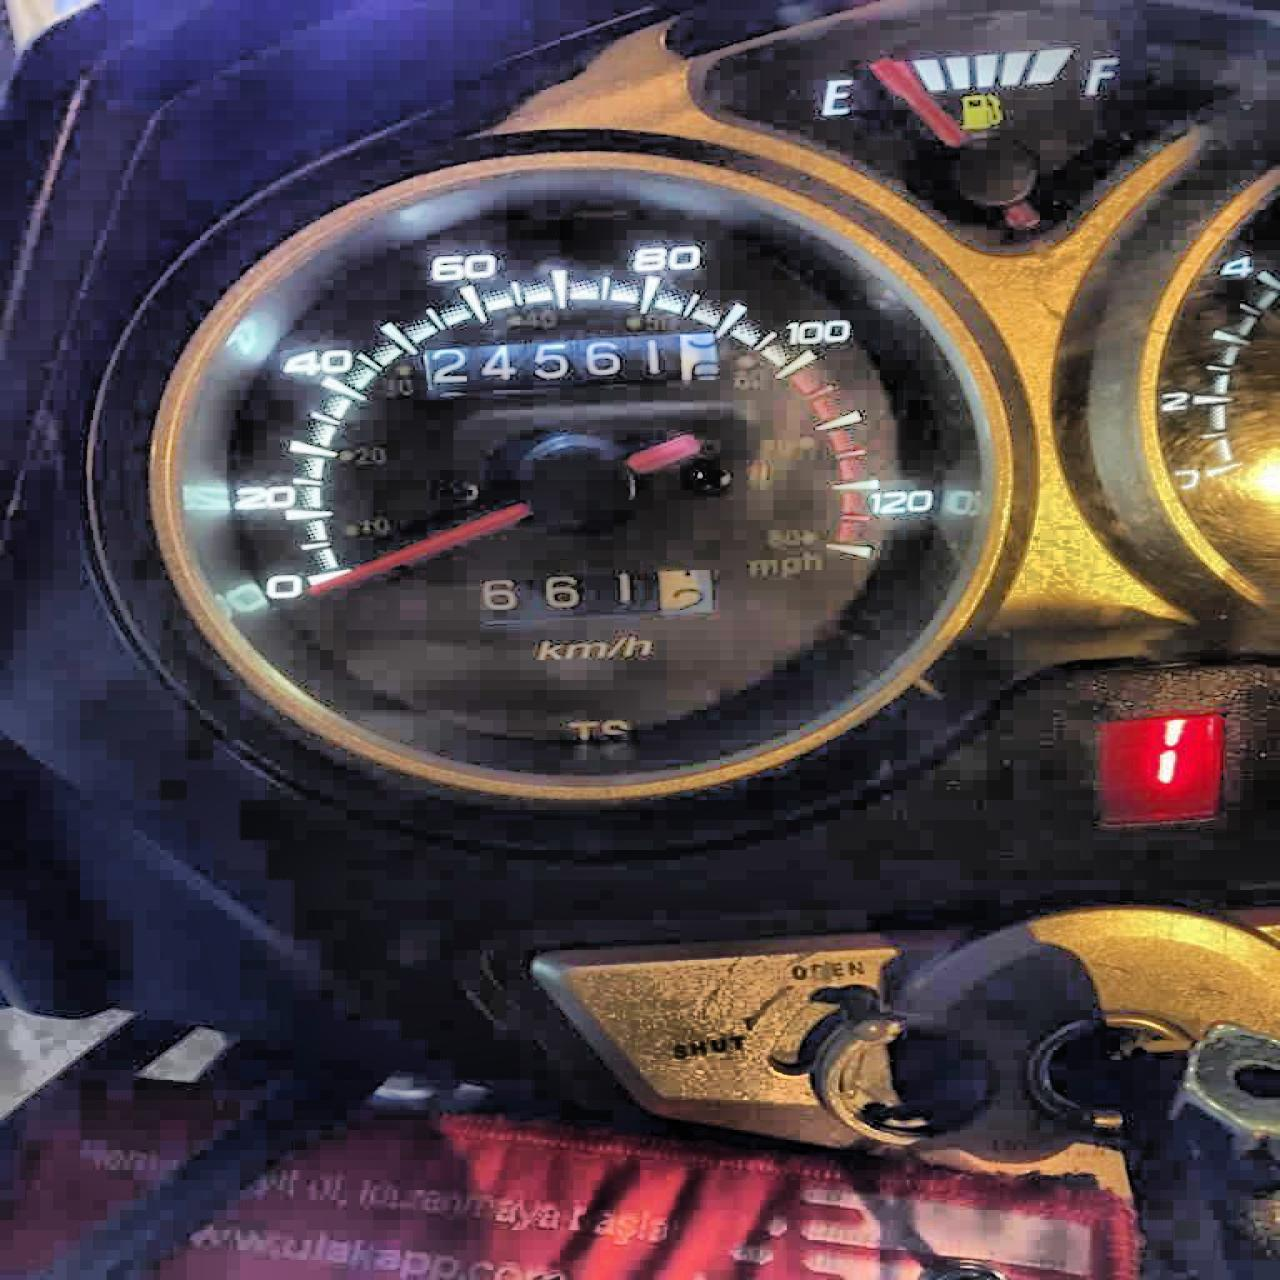1: (644, 338, 662, 375)
2: (430, 347, 467, 382)
4: (478, 343, 515, 380)
5: (532, 342, 568, 379)
6: (584, 340, 620, 375), (688, 358, 719, 381)
odometer: (418, 328, 722, 394)
